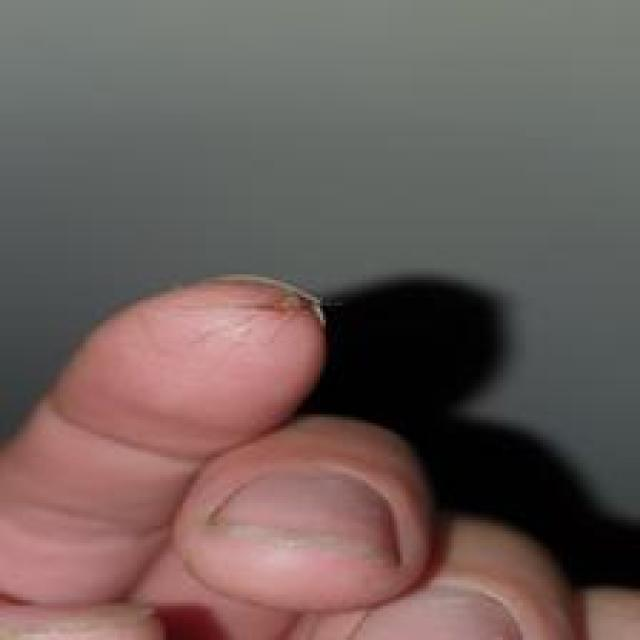Culex: (0, 271, 640, 640)
